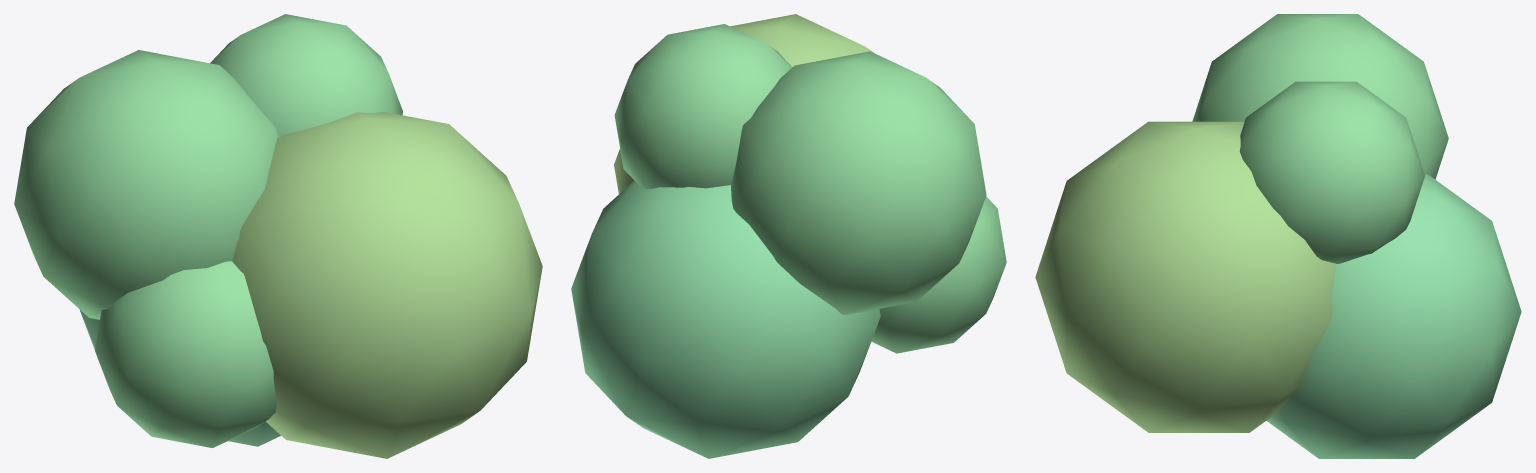
Rendered from PseudoVegetation_DefaultNormals_001.fbx.
3 views of the same model, side by side, from view 1: azimuth 30°, elevation 25°; view 2: azimuth 150°, elevation 25°; view 3: azimuth 270°, elevation 25° (orthographic). The views are drawn at different scales.
Parts seen in each view (by area): view 1: PseudoVegetation_DefaultNormals_001; view 2: PseudoVegetation_DefaultNormals_001; view 3: PseudoVegetation_DefaultNormals_001.
Boxes of the visible parts, left/top/right/bottom form: PseudoVegetation_DefaultNormals_001: left=14, top=14, right=542, bottom=458; PseudoVegetation_DefaultNormals_001: left=571, top=14, right=1006, bottom=458; PseudoVegetation_DefaultNormals_001: left=1035, top=14, right=1521, bottom=458.
Bounding box in the file's own units: 267 × 258 × 297.
